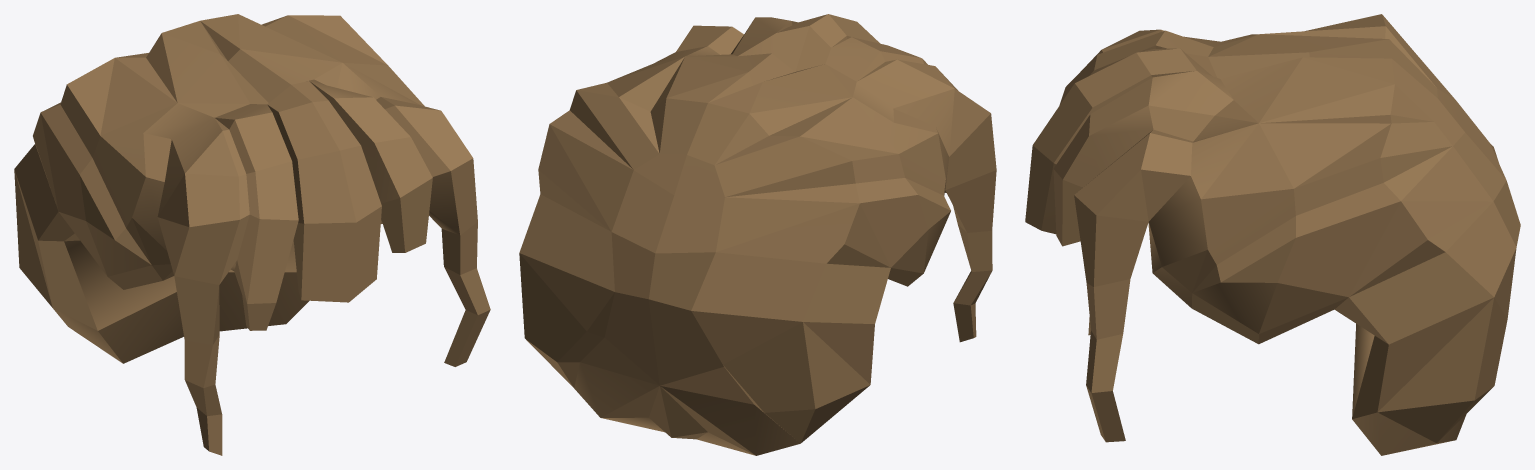
File: generic-side-06.glb
The picture shows the model from 3 angles, left to right: view 1: azimuth 30°, elevation 25°; view 2: azimuth 150°, elevation 25°; view 3: azimuth 270°, elevation 25°; orthographic projection. The views are drawn at different scales.
Visible parts, largest first — view 1: generic-side-06; view 2: generic-side-06; view 3: generic-side-06.
Part boxes in pixels (<box>): generic-side-06: <box>14,14,490,455</box>; generic-side-06: <box>519,14,996,455</box>; generic-side-06: <box>1025,14,1520,455</box>.
Size of the model in its own units: 0.2593 by 0.2467 by 0.304.
